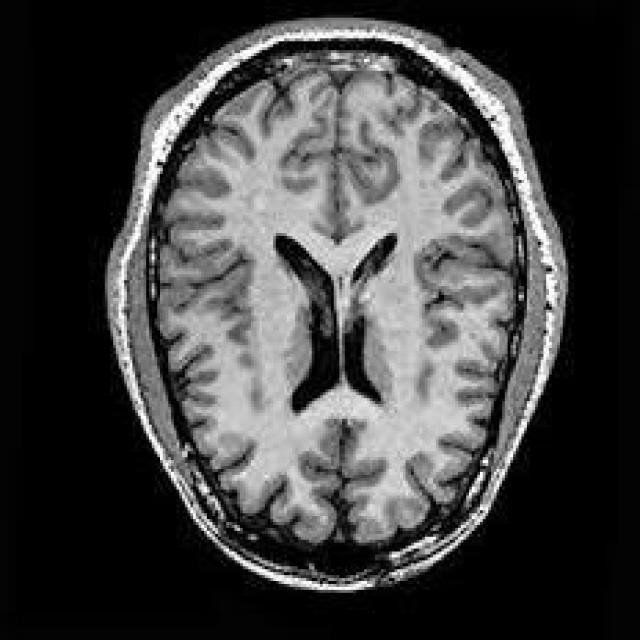notumor: (108, 18, 566, 590)
